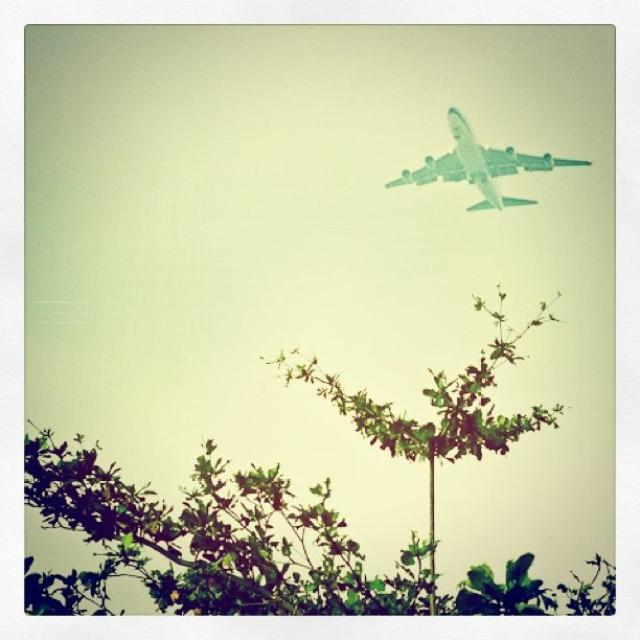airplane: (384, 107, 592, 212)
